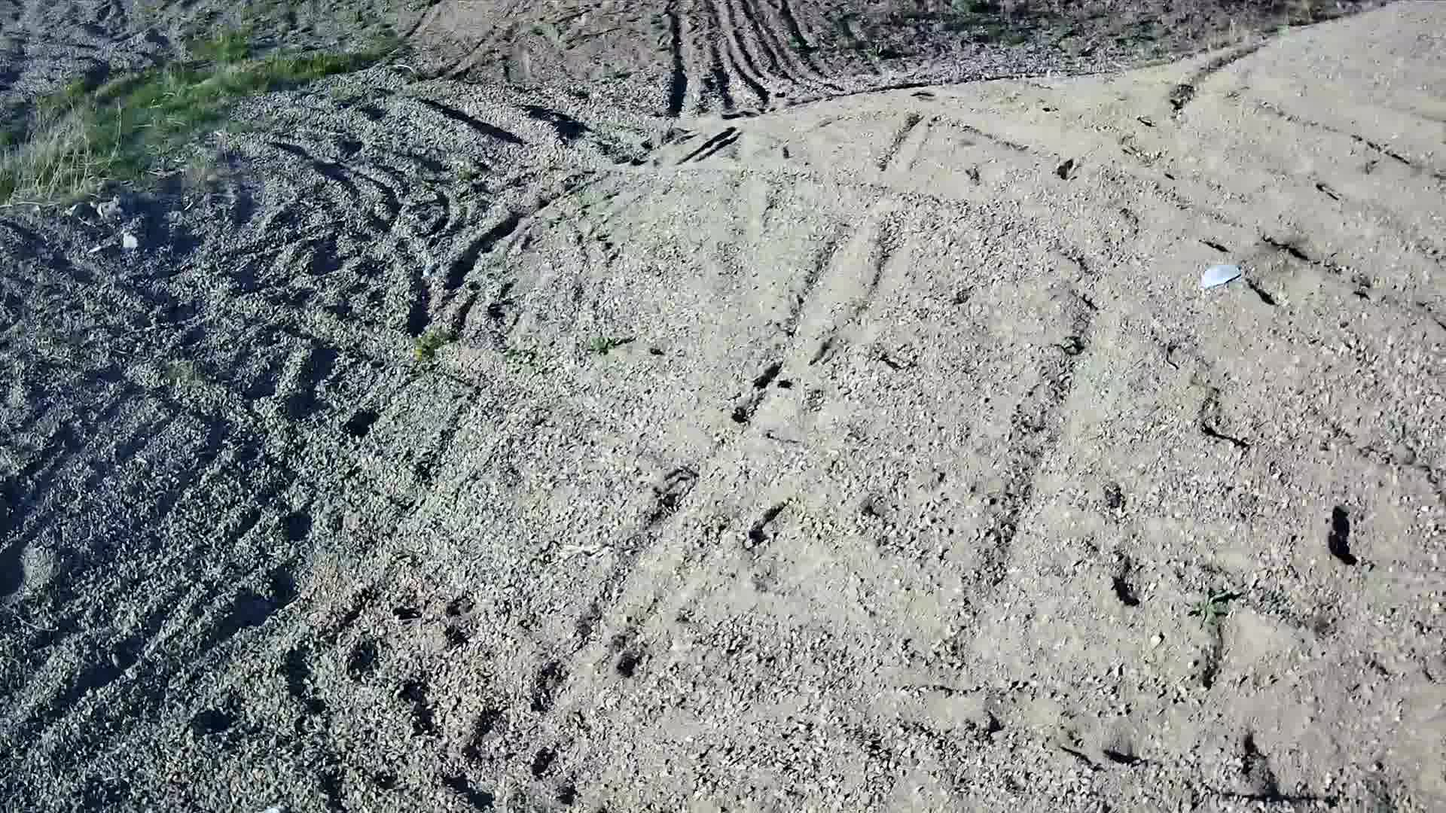Target: (1200, 264, 1239, 286)
